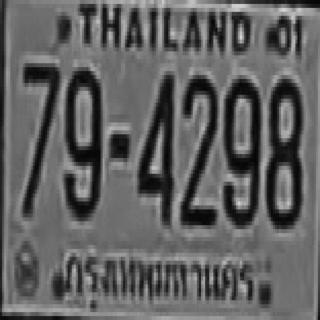N02: (180, 71, 217, 221)
N04: (137, 67, 172, 221)
N07: (22, 59, 58, 213)
N08: (264, 75, 302, 225)
N09: (62, 63, 100, 217), (222, 75, 258, 225)
P04: (58, 245, 262, 312)
